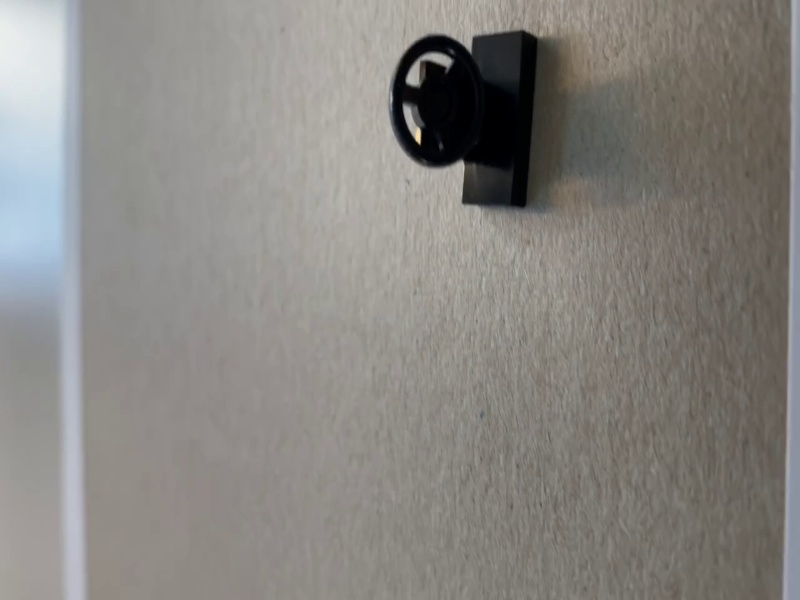steering wheel: (387, 26, 541, 212)
